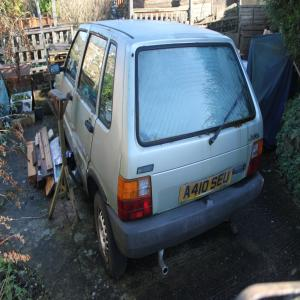Vehicle-registration-plate: (180, 169, 232, 204)
